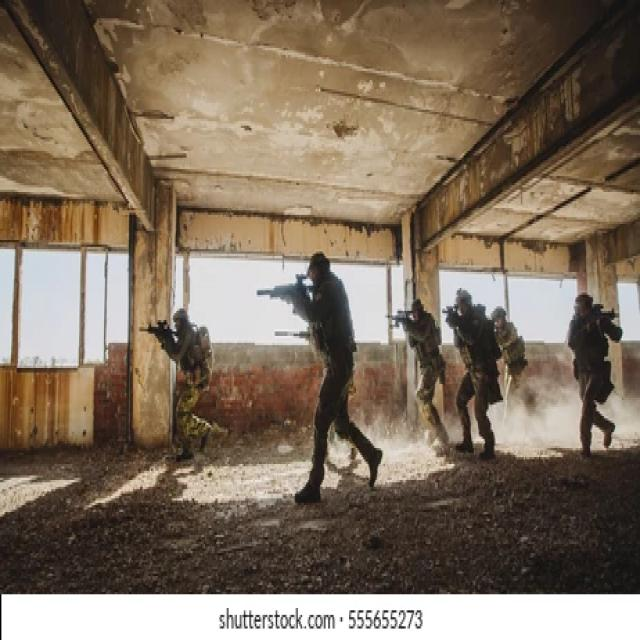soldier: (260, 249, 386, 504), (137, 296, 227, 468), (449, 287, 503, 462), (566, 291, 620, 466), (391, 300, 444, 461), (495, 305, 533, 448)
